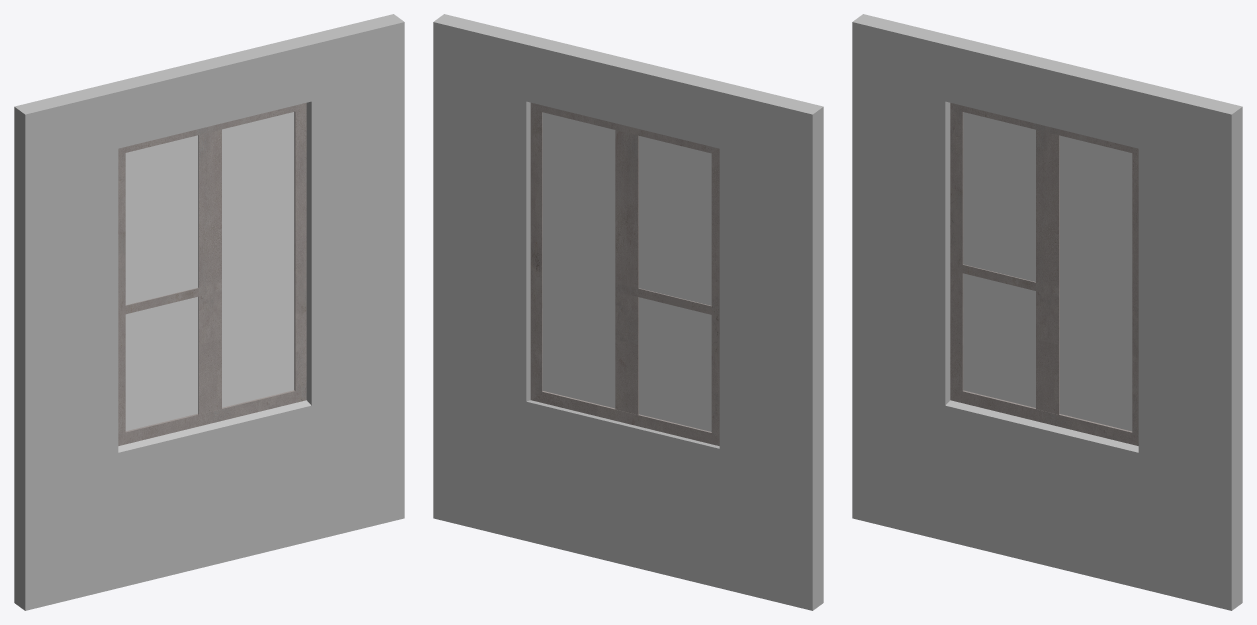
Rendered from ParedVentana.fbx.
The picture shows the model from 3 angles, left to right: view 1: azimuth 30°, elevation 25°; view 2: azimuth 150°, elevation 25°; view 3: azimuth 330°, elevation 25°; orthographic projection.
Visible parts, largest first — view 1: Concreto.063; view 2: Concreto.063; view 3: Concreto.063.
Boxes of the visible parts, x1,y1,x2,y2 form: Concreto.063: (14,14,404,610); Concreto.063: (433,14,823,610); Concreto.063: (852,14,1242,610).
Bounding box in the file's own units: 400 × 500 × 20.
